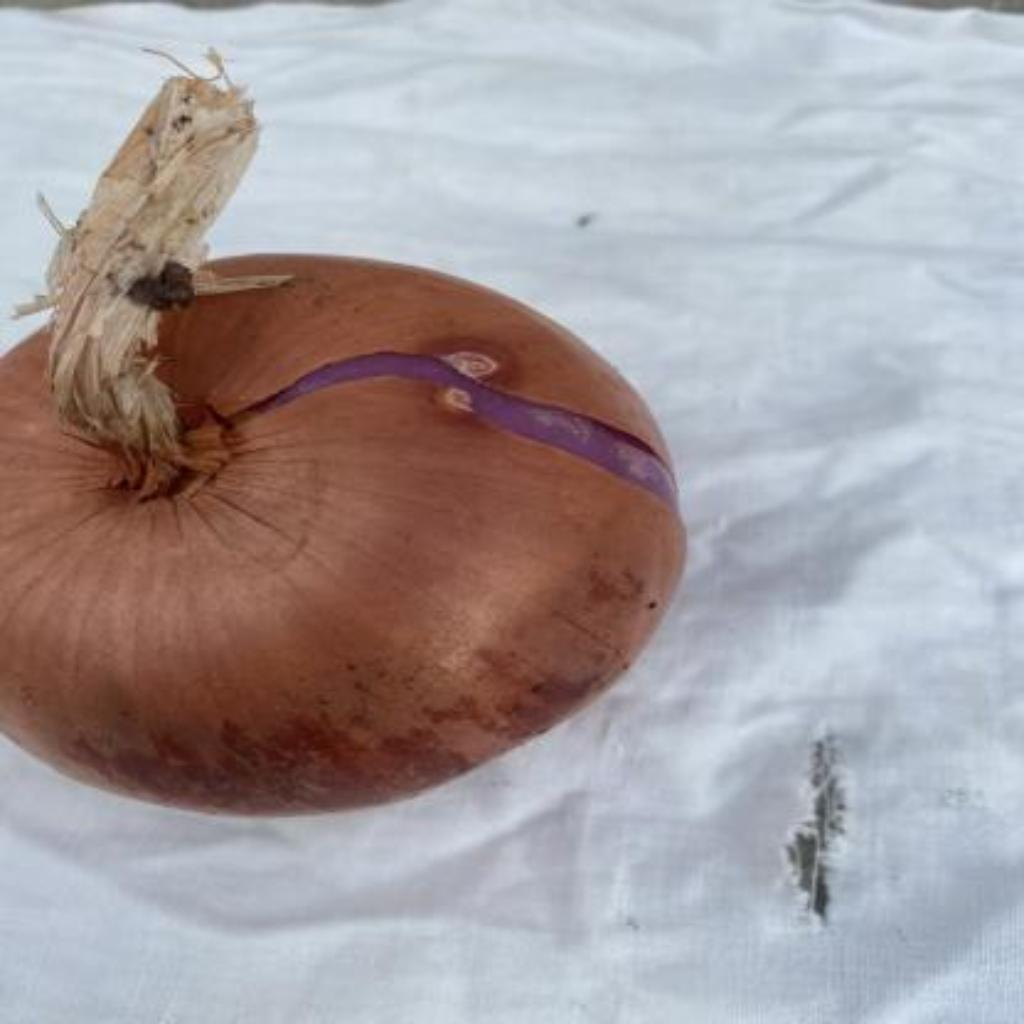Onion: (0, 52, 687, 814)
